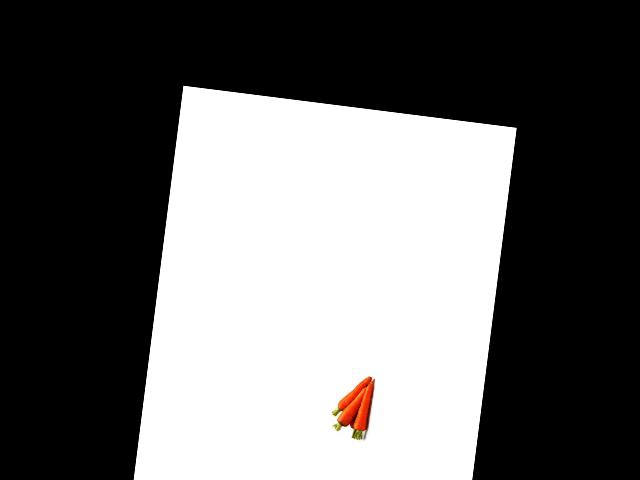carrot: (352, 375, 380, 437)
